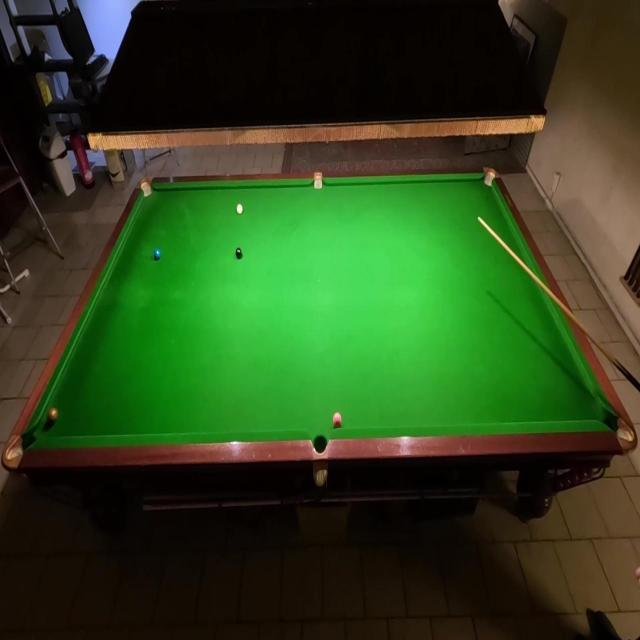Ball: (332, 412, 342, 428), (48, 407, 58, 423), (154, 248, 162, 260), (236, 203, 243, 215), (236, 247, 242, 259)
